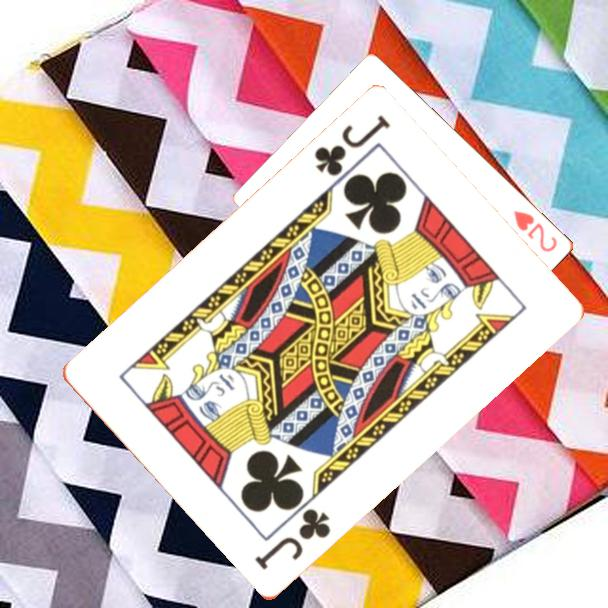c11: (250, 505, 334, 574), (310, 112, 394, 180)
h02: (510, 207, 561, 255)
